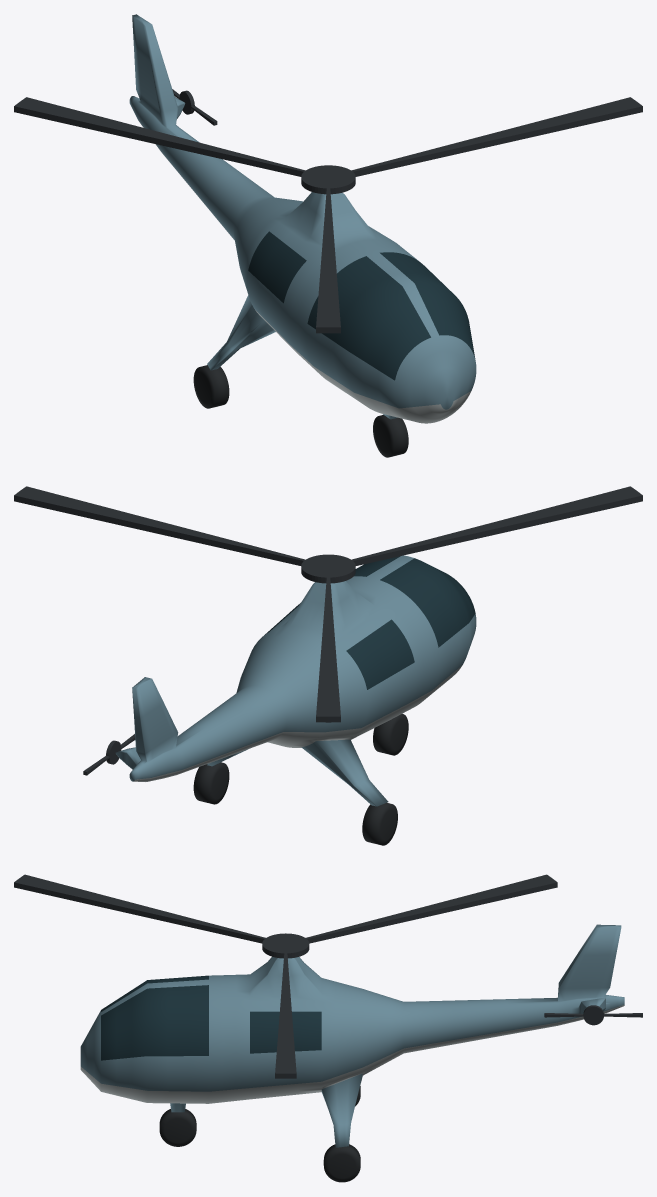
Rendered from A-NEW-20261027-HELICOPTER-001_LOD0_R1.fbx.
3 renders of one model, top to bottom at view 1: azimuth 30°, elevation 25°; view 2: azimuth 150°, elevation 25°; view 3: azimuth 270°, elevation 25°, orthographic. The views are drawn at different scales.
Parts seen in each view (by area): view 1: original helicopter cabin tail boom mast and fixed gear, original static three blade main rotor, original helicopter fixed wheel 2, original helicopter fixed wheel 0; view 2: original helicopter cabin tail boom mast and fixed gear, original static three blade main rotor, original helicopter fixed wheel 2, original helicopter fixed wheel 1, original helicopter fixed wheel 0, generic unseen two blade tail rotor; view 3: original helicopter cabin tail boom mast and fixed gear, original static three blade main rotor, original helicopter fixed wheel 1, original helicopter fixed wheel 0, generic unseen two blade tail rotor.
Boxes of the visible parts, x1,y1,x2,y2 form: original helicopter cabin tail boom mast and fixed gear: (129, 14, 476, 423); original static three blade main rotor: (14, 97, 642, 333); original helicopter fixed wheel 2: (193, 365, 229, 408); original helicopter fixed wheel 0: (373, 415, 408, 457); original helicopter cabin tail boom mast and fixed gear: (115, 555, 476, 806); original static three blade main rotor: (14, 486, 642, 722); original helicopter fixed wheel 2: (362, 803, 397, 845); original helicopter fixed wheel 1: (193, 762, 229, 804); original helicopter fixed wheel 0: (373, 713, 408, 755); generic unseen two blade tail rotor: (83, 734, 135, 775); original helicopter cabin tail boom mast and fixed gear: (80, 924, 624, 1147); original static three blade main rotor: (14, 874, 557, 1078); original helicopter fixed wheel 1: (323, 1144, 360, 1182); original helicopter fixed wheel 0: (159, 1109, 196, 1146); generic unseen two blade tail rotor: (544, 1005, 642, 1025).
Bounding box in the file's own units: 459 × 234 × 613.
